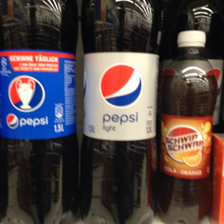soda: (79, 1, 161, 224), (1, 1, 80, 224), (156, 30, 217, 222)
